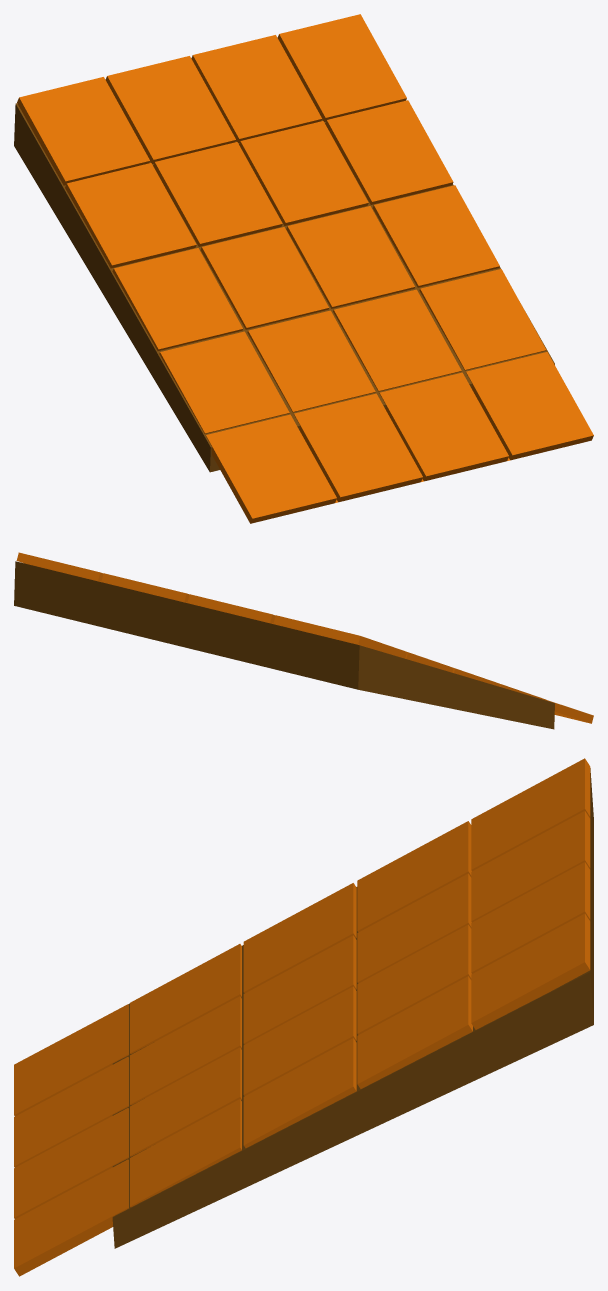
File: Roof.fbx
3 renders of one model, top to bottom at view 1: azimuth 30°, elevation 25°; view 2: azimuth 150°, elevation 25°; view 3: azimuth 270°, elevation 25°, orthographic. The views are drawn at different scales.
Parts seen in each view (by area): view 1: Roof; view 2: Roof; view 3: Roof.
Boxes of the visible parts, x1,y1,x2,y2 form: Roof: (14,14,593,523); Roof: (14,552,593,729); Roof: (14,758,593,1276).
Size of the model in its own units: 403 by 288 by 481.
